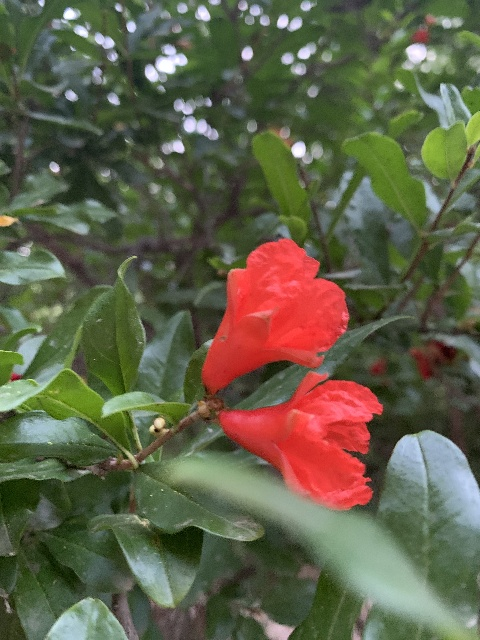flower: (202, 238, 349, 393), (217, 370, 379, 510)
